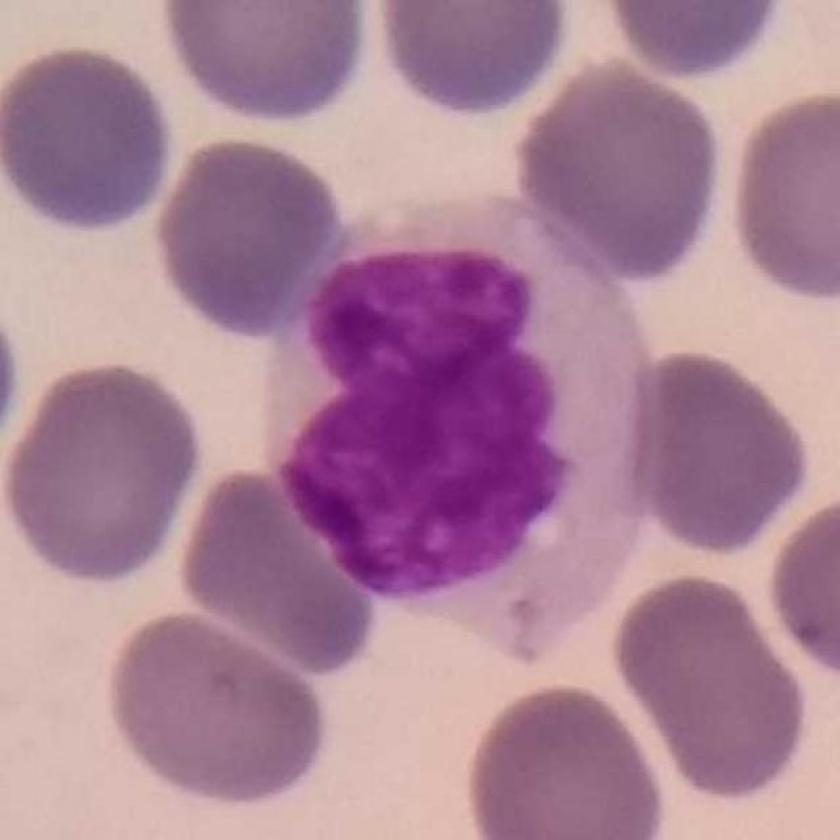monocyte: (252, 191, 670, 672)
